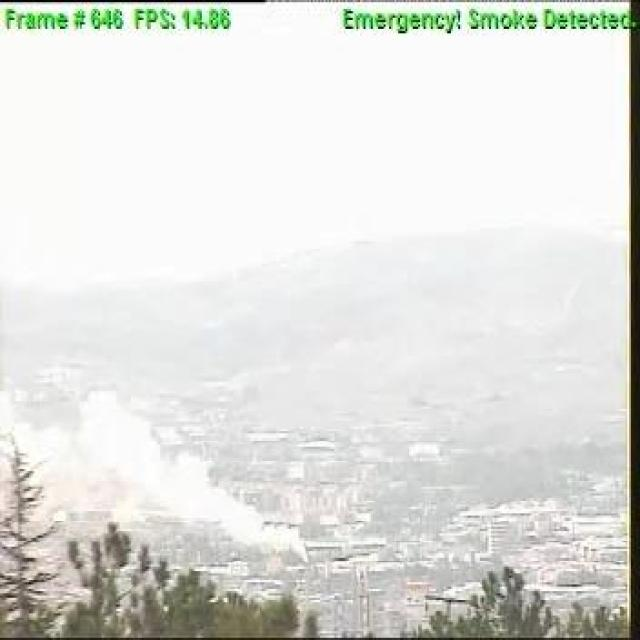Smoke: (84, 389, 311, 555)
